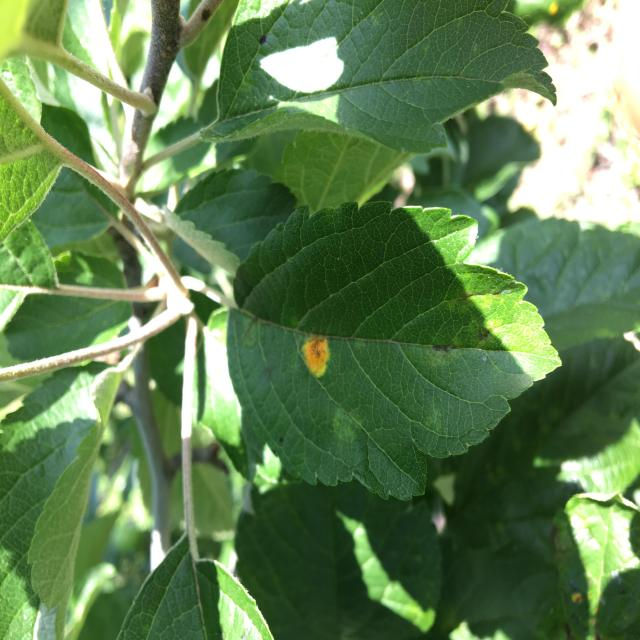rust: (226, 199, 564, 503)
